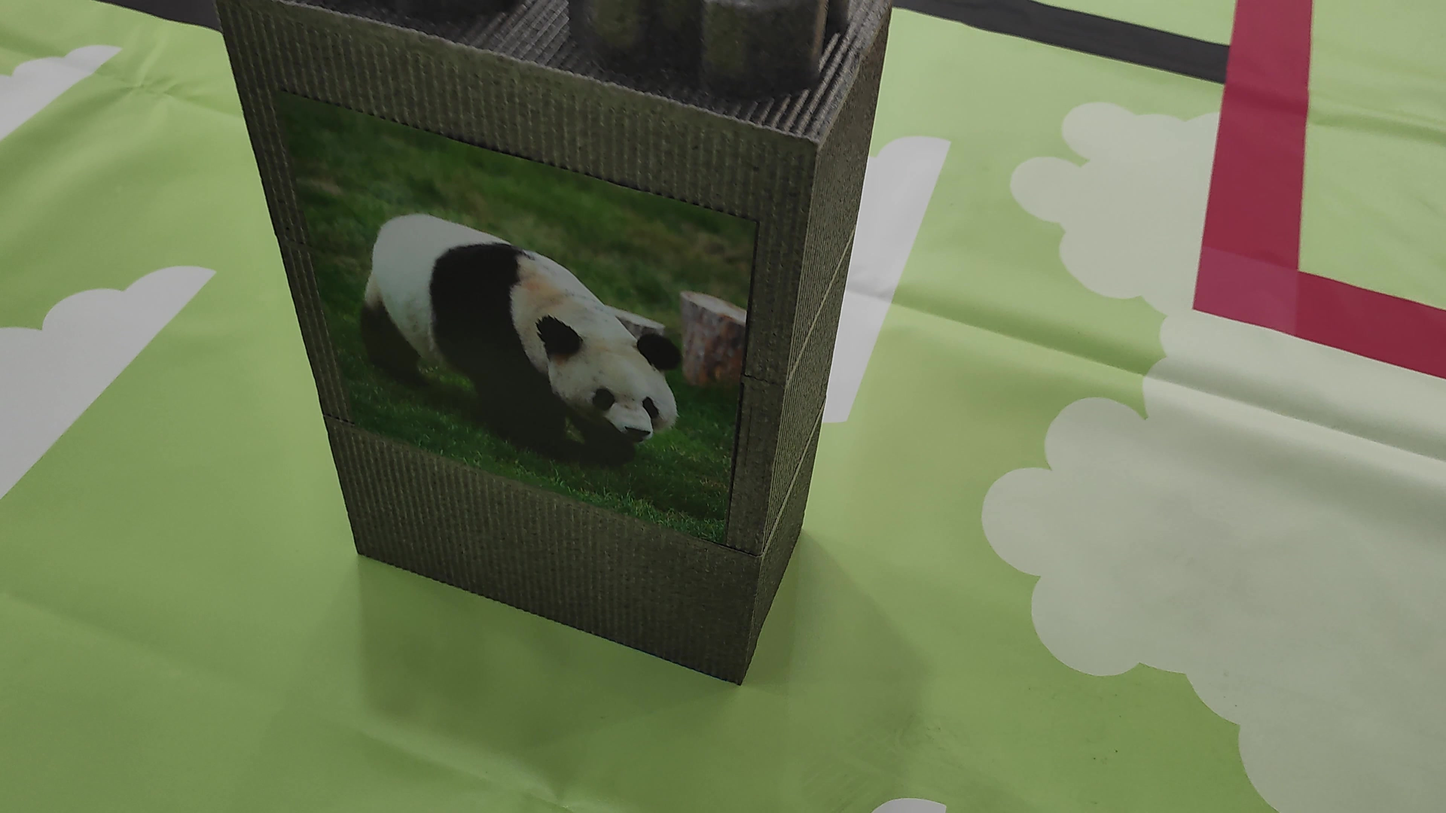panda: (331, 180, 692, 509)
